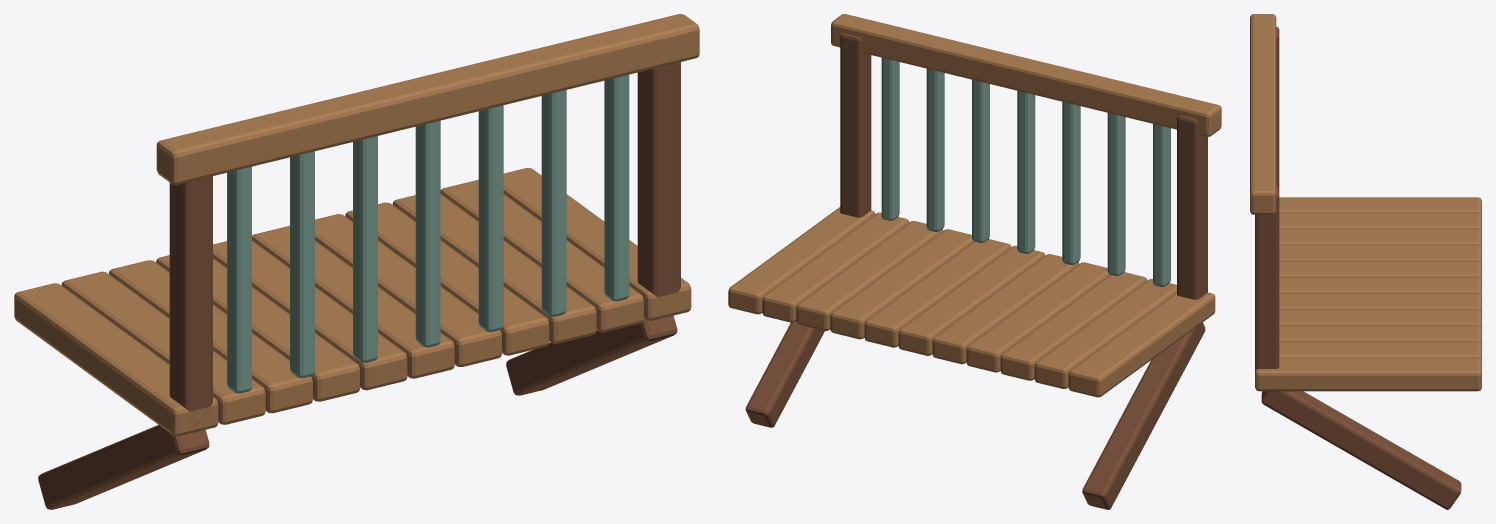
File: attachment_balcony_2m__attachments.glb
3 views of the same model, side by side, from view 1: azimuth 30°, elevation 25°; view 2: azimuth 150°, elevation 25°; view 3: azimuth 270°, elevation 25° (orthographic). The views are drawn at different scales.
Parts seen in each view (by area): view 1: attachment_balcony_2m__attachments__mesh_00; view 2: attachment_balcony_2m__attachments__mesh_00; view 3: attachment_balcony_2m__attachments__mesh_00.
Boxes of the visible parts, x1,y1,x2,y2 form: attachment_balcony_2m__attachments__mesh_00: (14, 14, 699, 509); attachment_balcony_2m__attachments__mesh_00: (728, 14, 1221, 509); attachment_balcony_2m__attachments__mesh_00: (1250, 14, 1481, 509).
Size of the model in its own units: 2.1 by 1.76 by 1.14.
